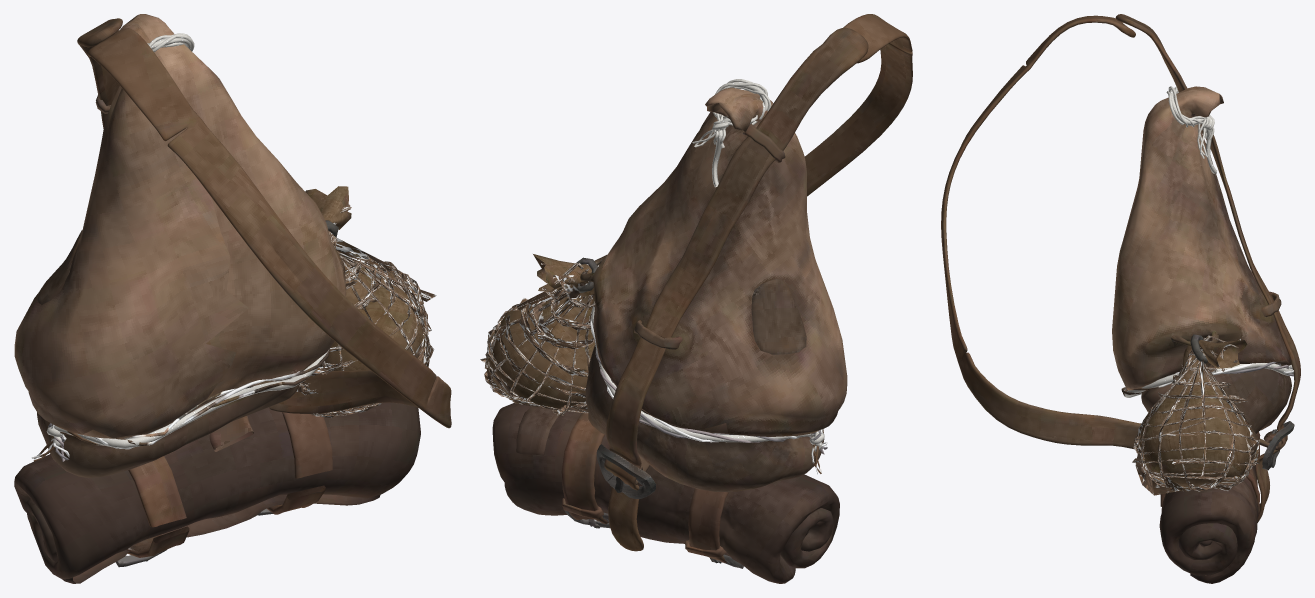
File: natural-travel-pack-clear.glb
The picture shows the model from 3 angles, left to right: view 1: azimuth 30°, elevation 25°; view 2: azimuth 150°, elevation 25°; view 3: azimuth 270°, elevation 25°; orthographic projection. The views are drawn at different scales.
Parts seen in each view (by area): view 1: natural-travel-pack-clear runtime mesh; view 2: natural-travel-pack-clear runtime mesh; view 3: natural-travel-pack-clear runtime mesh.
Boxes of the visible parts, x1=… form: natural-travel-pack-clear runtime mesh: x1=14, y1=14, x2=451, y2=583; natural-travel-pack-clear runtime mesh: x1=480, y1=14, x2=912, y2=583; natural-travel-pack-clear runtime mesh: x1=941, y1=14, x2=1300, y2=583.
Size of the model in its own units: 0.3309 by 0.48 by 0.3386.
2 materials, 2 textured.
